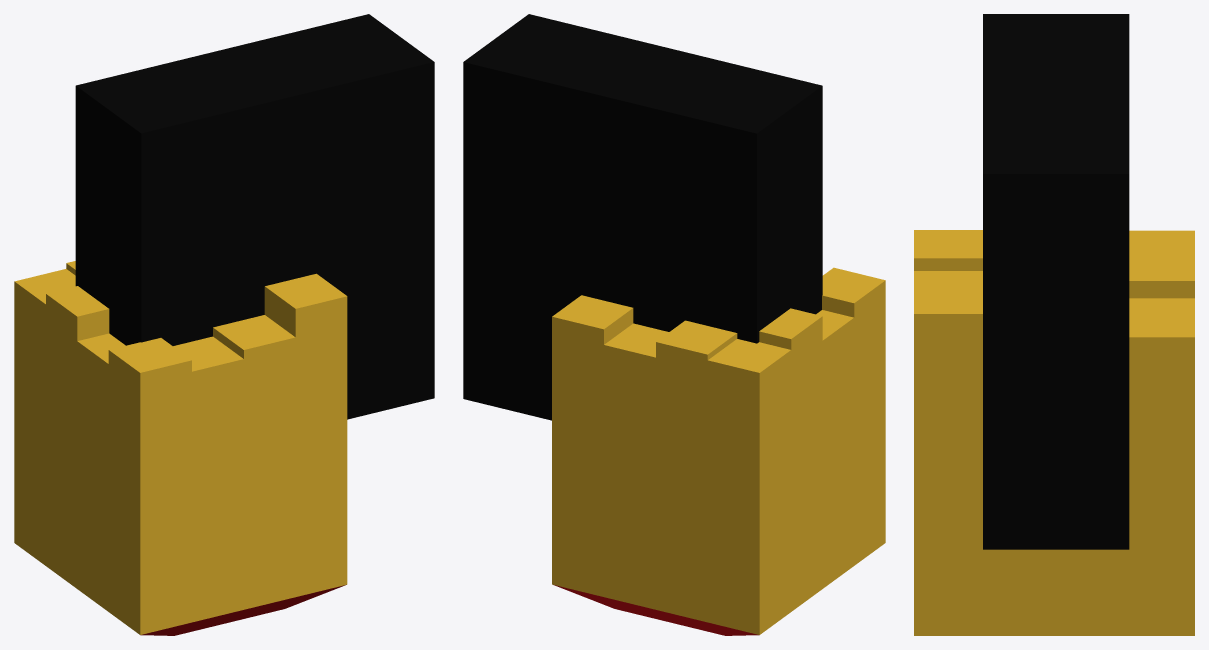
The model's file is fbx_head_Punk.fbx.
3 renders of one model, left to right at view 1: azimuth 30°, elevation 25°; view 2: azimuth 150°, elevation 25°; view 3: azimuth 270°, elevation 25°, orthographic. The views are drawn at different scales.
Parts seen in each view (by area): view 1: sm_head_Pnk; view 2: sm_head_Pnk; view 3: sm_head_Pnk.
Boxes of the visible parts, <box> form: sm_head_Pnk: <box>14,14,434,635</box>; sm_head_Pnk: <box>463,14,885,635</box>; sm_head_Pnk: <box>914,14,1194,635</box>.
Bounding box in the file's own units: 41.71 × 60.57 × 27.94.
